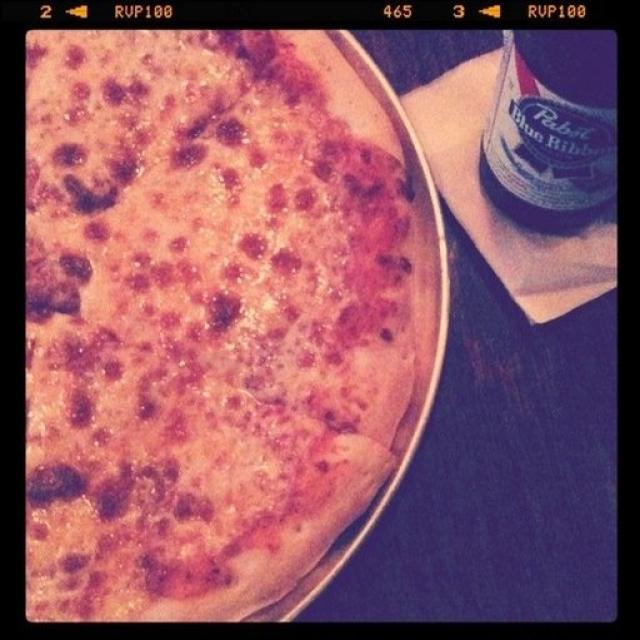Pizza: (28, 31, 442, 621)
